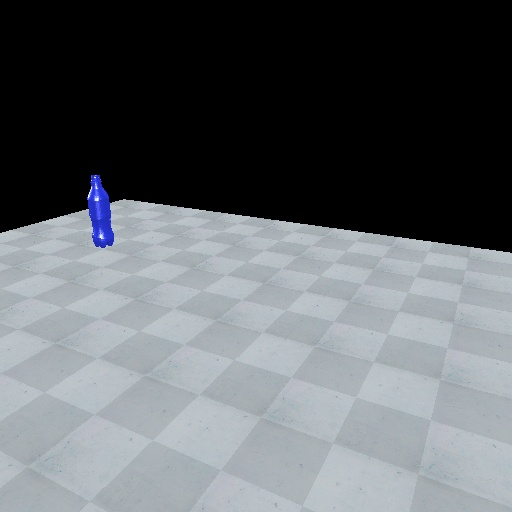bottle: (83, 171, 117, 251)
